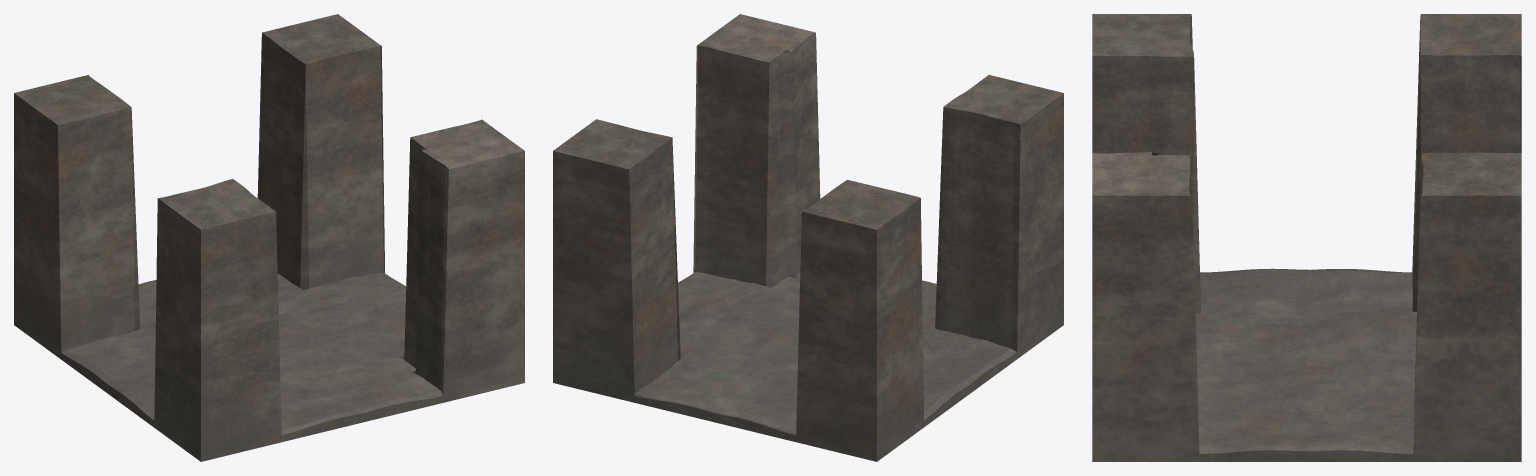
File: dungeon_cave_open_floor.glb
3 views of the same model, side by side, from view 1: azimuth 30°, elevation 25°; view 2: azimuth 150°, elevation 25°; view 3: azimuth 270°, elevation 25° (orthographic). The views are drawn at different scales.
Parts seen in each view (by area): view 1: dungeon_cave_open_floor; view 2: dungeon_cave_open_floor; view 3: dungeon_cave_open_floor.
Boxes of the visible parts, x1,y1,x2,y2 form: dungeon_cave_open_floor: (14, 14, 524, 461); dungeon_cave_open_floor: (553, 14, 1063, 461); dungeon_cave_open_floor: (1092, 14, 1521, 461).
Size of the model in its own units: 5.05 by 3.46 by 5.05.
Materials: 1 (1 with a texture image).
